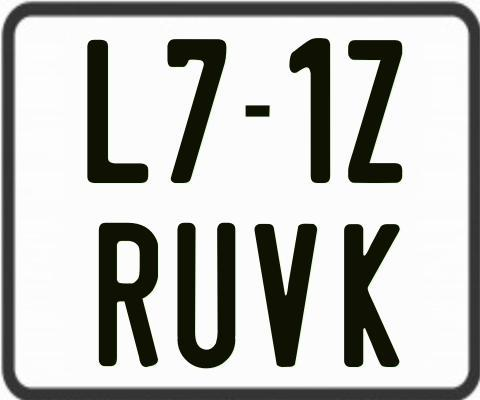1: (287, 38, 334, 183)
7: (165, 36, 228, 184)
K: (344, 223, 403, 370)
L: (84, 39, 149, 182)
R: (99, 221, 159, 367)
U: (177, 221, 238, 371)
V: (253, 221, 319, 365)
Z: (345, 37, 401, 184)
